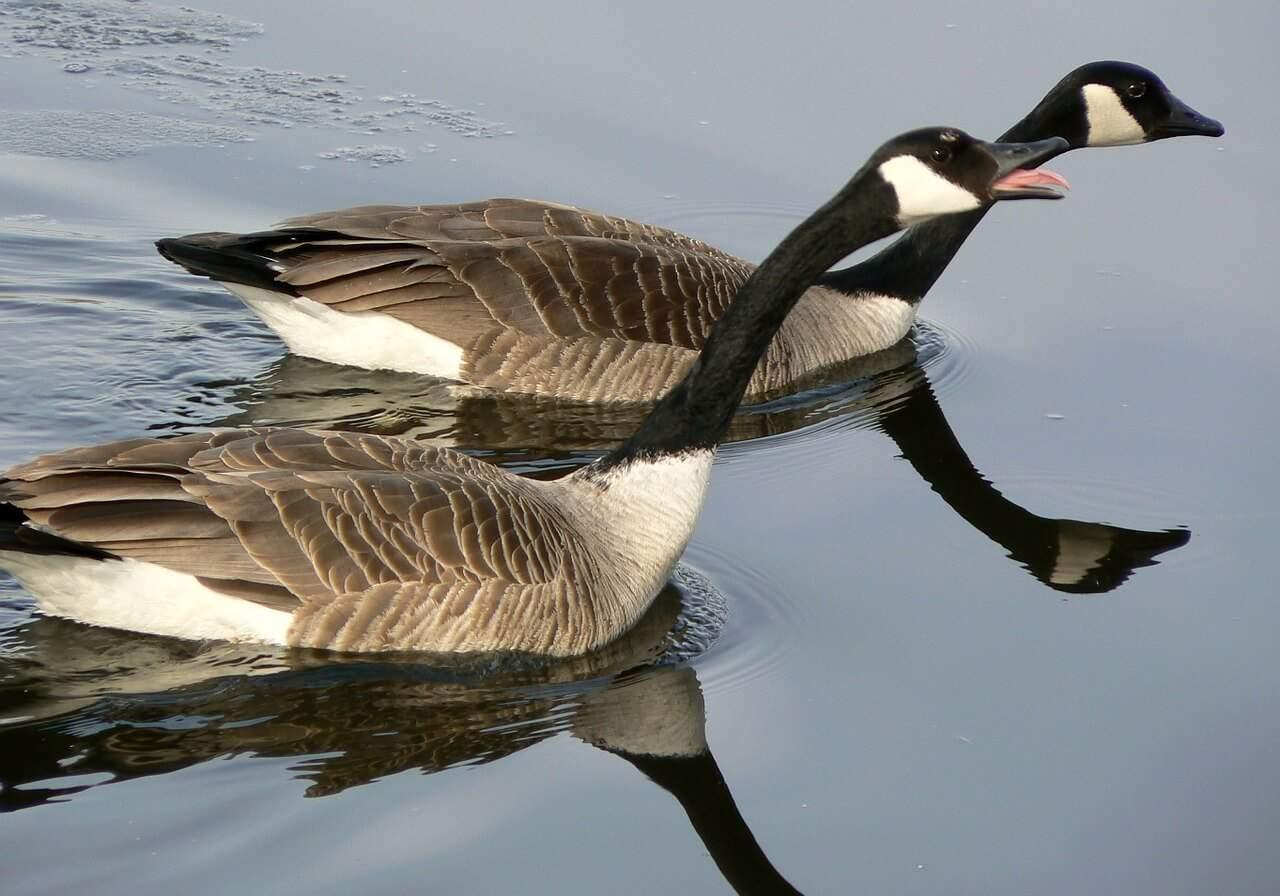Canadian-Goose: (8, 124, 1060, 663), (159, 59, 1223, 384)
